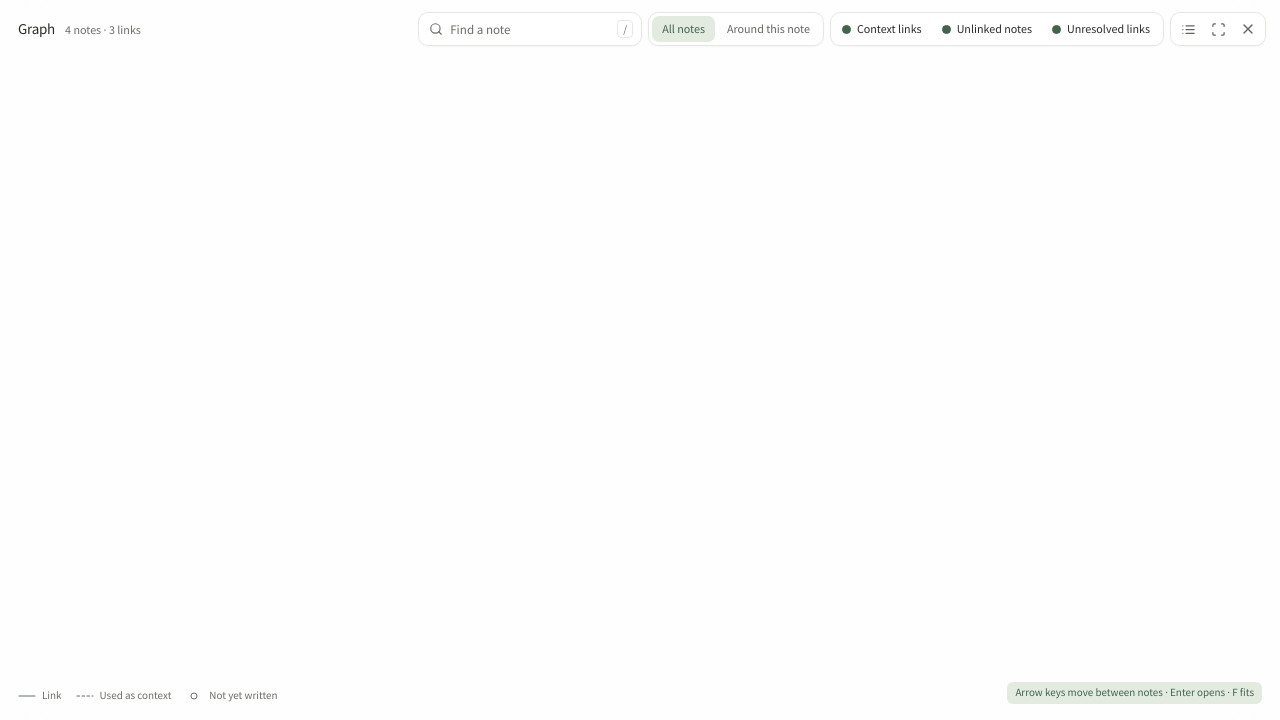
Test: NoteGraph dialog › filters context links, unresolved links and unlinked notes
Step 1. Click the button "Context links" → (883, 29), box [834, 16, 932, 42]
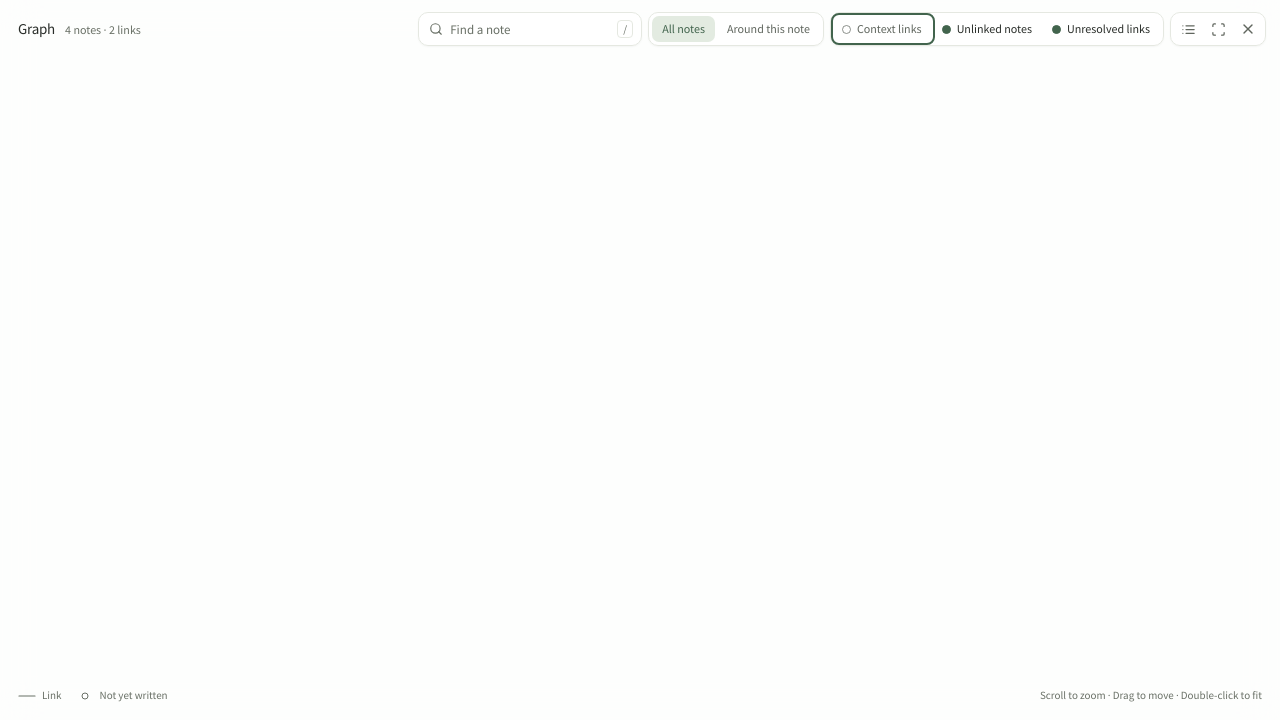
expect the text "4 notes · 2 links" is shown: met, box [65, 21, 141, 38]
expect the list named "Legend" no longer shows "Used as context": met, box [18, 688, 168, 704]
Step 2. Click the button "Unresolved links" → (1102, 29), box [1044, 16, 1160, 42]
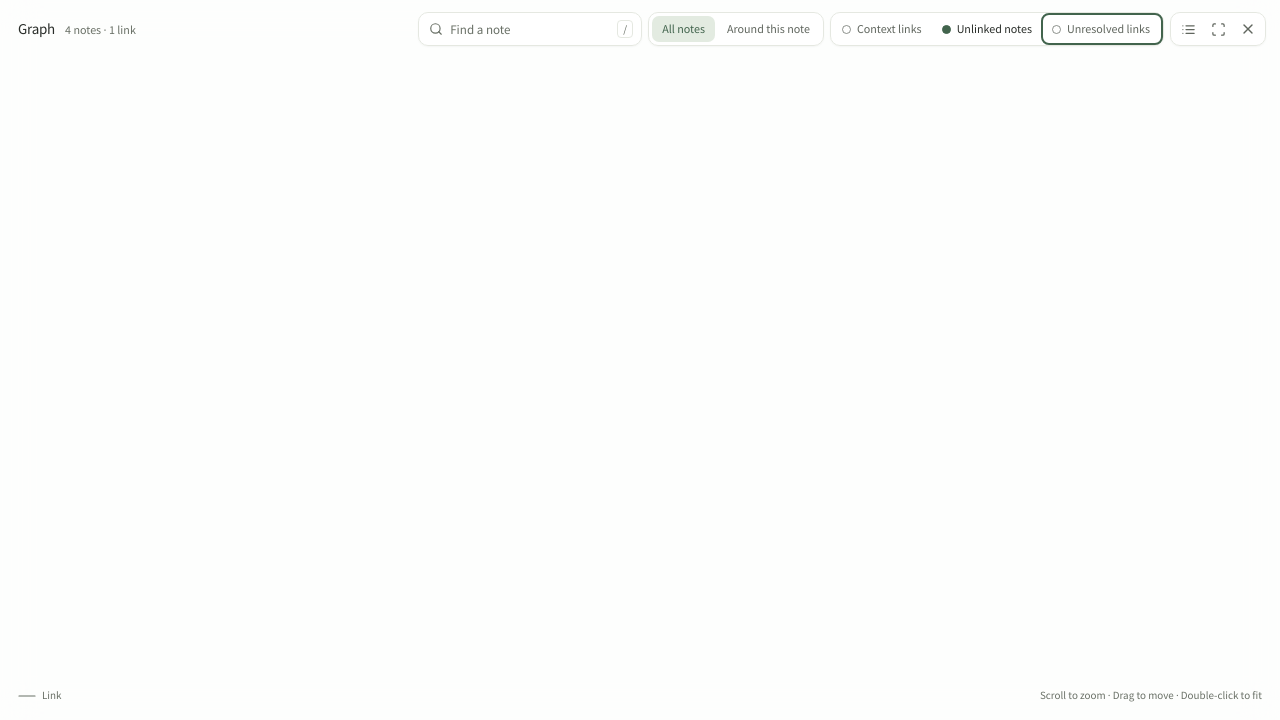
expect the text "4 notes · 1 link" is shown: met, box [65, 21, 136, 38]
Step 3. Click the button "Unlinked notes" → (988, 29), box [934, 16, 1042, 42]
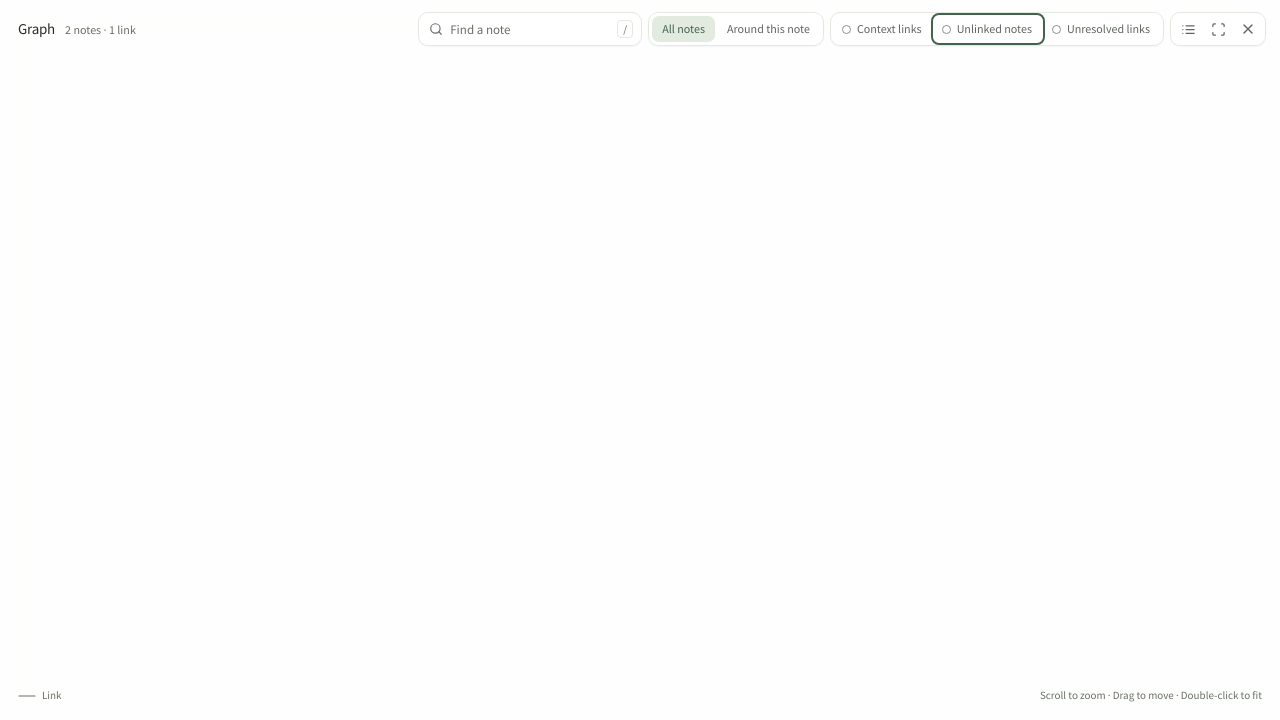
expect the text "2 notes · 1 link" is shown: met, box [65, 21, 136, 38]
